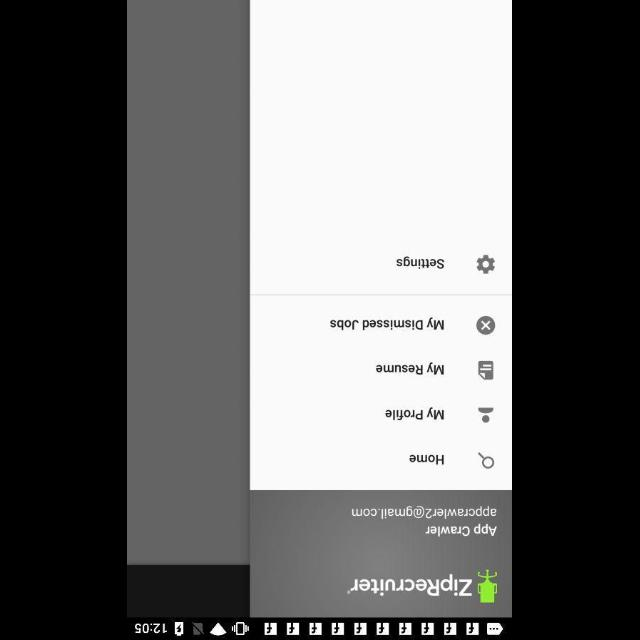icon: (476, 253, 496, 274), (476, 316, 496, 334), (478, 360, 494, 380), (477, 452, 495, 468), (478, 406, 494, 424)
image: (478, 568, 498, 602)
panel: (250, 0, 512, 616)
text: (348, 574, 474, 596), (353, 505, 497, 519), (330, 317, 444, 331), (376, 361, 444, 375), (426, 524, 498, 536), (385, 406, 445, 420), (396, 256, 446, 270), (409, 454, 445, 464)
uppertaskbar: (128, 617, 512, 639)
